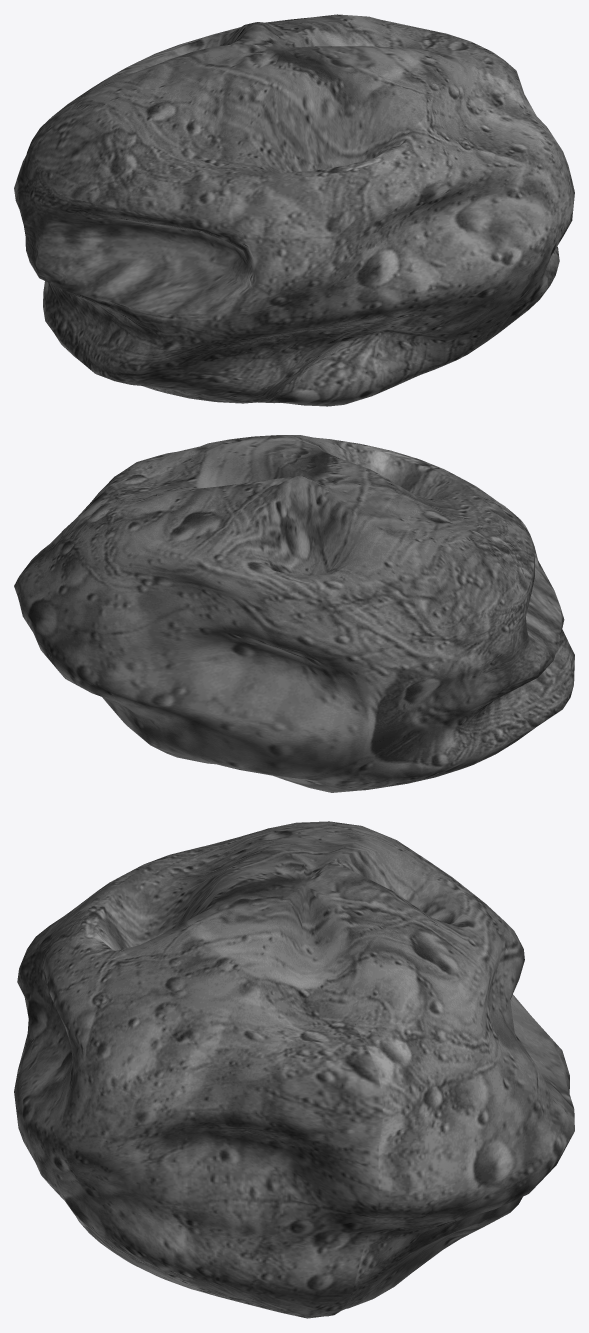
Rendered from asteroid.glb.
3 renders of one model, top to bottom at view 1: azimuth 30°, elevation 25°; view 2: azimuth 150°, elevation 25°; view 3: azimuth 270°, elevation 25°, orthographic. The views are drawn at different scales.
Parts seen in each view (by area): view 1: pSphere1; view 2: pSphere1; view 3: pSphere1.
Part boxes in pixels (x1=…): pSphere1: x1=14, y1=14, x2=574, y2=406; pSphere1: x1=14, y1=435, x2=574, y2=792; pSphere1: x1=14, y1=821, x2=574, y2=1318.
Size of the model in its own units: 0.3684 by 0.2214 by 0.2995.
Materials: 1 (1 with a texture image).
